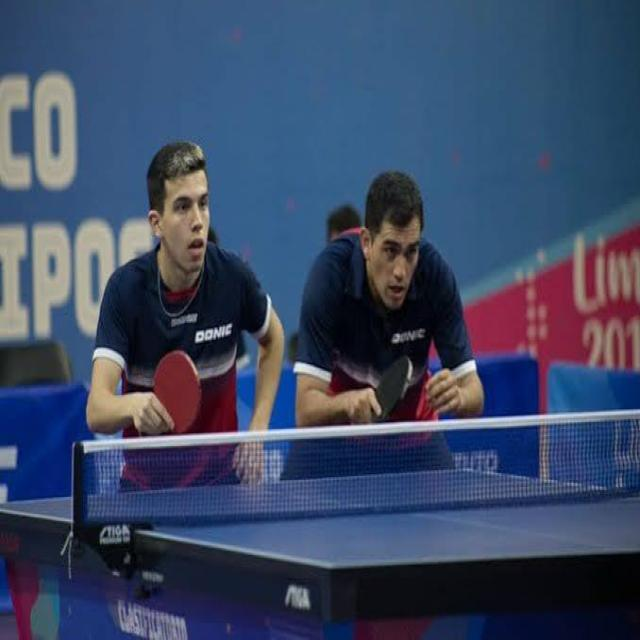TT Net: (68, 403, 639, 543)
TT Racket: (142, 334, 216, 447), (363, 344, 425, 435)
TT Table: (0, 465, 639, 571)
